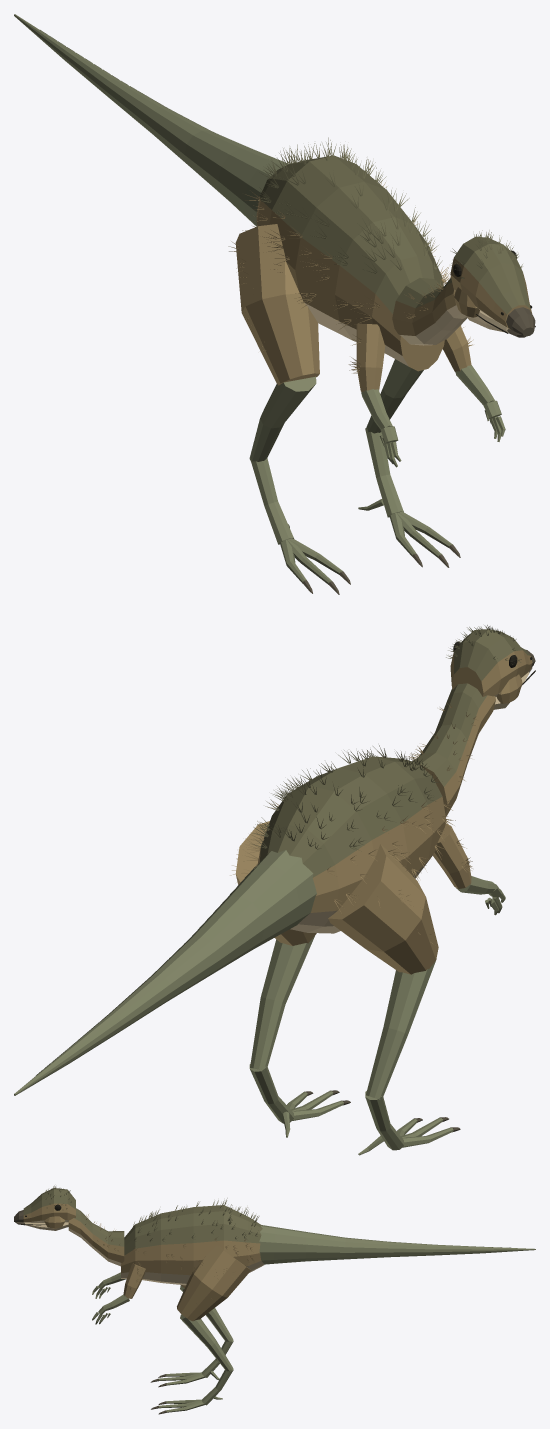
3 views of the same model, one above another, from view 1: azimuth 30°, elevation 25°; view 2: azimuth 150°, elevation 25°; view 3: azimuth 270°, elevation 25° (orthographic). The views are drawn at different scales.
Parts seen in each view (by area): view 1: Core_profiles, Limbs, Scaly_tail, Short_filament_cover, Keratin_details; view 2: Core_profiles, Limbs, Scaly_tail, Short_filament_cover; view 3: Core_profiles, Limbs, Scaly_tail, Short_filament_cover.
Part boxes in pixels (left/top/right/bottom): Core_profiles: left=256, top=155, right=532, bottom=371; Limbs: left=235, top=224, right=505, bottom=584; Scaly_tail: left=14, top=14, right=287, bottom=226; Short_filament_cover: left=228, top=137, right=522, bottom=373; Keratin_details: left=302, top=307, right=535, bottom=594; Core_profiles: left=257, top=629, right=532, bottom=933; Limbs: left=235, top=821, right=505, bottom=1155; Scaly_tail: left=14, top=850, right=316, bottom=1095; Short_filament_cover: left=230, top=625, right=521, bottom=944; Core_profiles: left=23, top=1188, right=264, bottom=1285; Limbs: left=92, top=1245, right=250, bottom=1412; Scaly_tail: left=259, top=1225, right=535, bottom=1264; Short_filament_cover: left=45, top=1185, right=259, bottom=1298.
Size of the model in its own units: 0.3012 by 0.6658 by 1.5.
